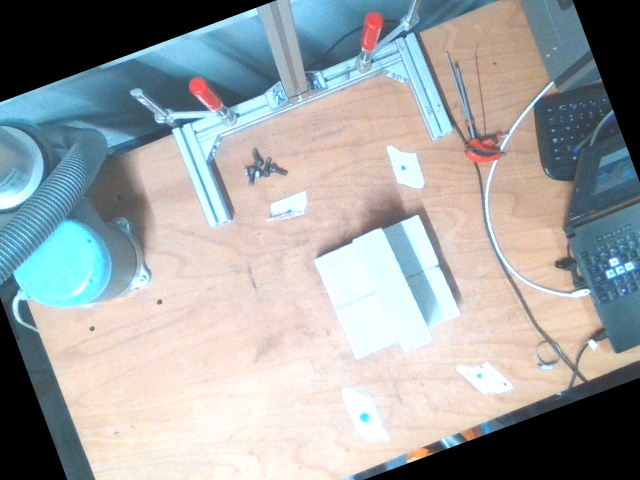brick-side: (352, 227, 433, 351)
